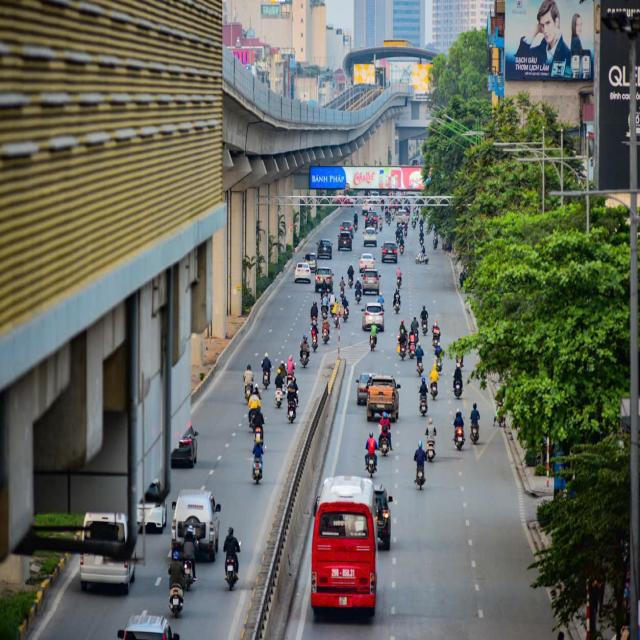Bus: (313, 471, 378, 617)
car: (84, 509, 136, 595), (172, 495, 217, 556), (138, 479, 165, 529), (368, 376, 398, 421), (168, 425, 200, 462), (358, 372, 382, 402), (364, 304, 384, 330), (361, 268, 380, 294), (316, 268, 332, 290), (295, 262, 310, 284), (382, 242, 397, 262), (318, 238, 331, 259), (363, 229, 375, 248), (360, 254, 374, 270), (339, 233, 351, 251), (341, 220, 353, 238), (305, 253, 317, 269)
motobyte: (172, 557, 184, 619), (226, 531, 238, 587), (414, 446, 427, 490), (365, 436, 377, 475), (186, 535, 194, 586), (424, 422, 434, 460), (380, 412, 389, 454), (454, 413, 463, 450), (288, 380, 296, 421), (251, 388, 259, 428), (253, 445, 261, 484), (472, 406, 480, 444), (254, 414, 263, 446), (300, 336, 309, 368), (420, 380, 428, 415), (455, 368, 463, 400), (262, 352, 268, 390), (245, 368, 252, 400), (275, 372, 281, 409), (430, 370, 437, 399), (322, 314, 328, 346), (417, 346, 423, 378), (432, 324, 440, 348), (399, 332, 406, 359), (412, 316, 419, 342), (417, 252, 430, 266), (422, 307, 428, 334), (371, 324, 377, 351), (312, 318, 317, 350), (437, 347, 442, 373), (288, 358, 293, 383), (348, 266, 353, 290), (323, 294, 328, 317), (311, 302, 317, 321), (395, 292, 400, 314), (343, 300, 348, 322), (330, 293, 335, 312), (410, 335, 414, 358), (433, 233, 438, 250), (340, 277, 344, 297), (335, 304, 338, 329), (397, 270, 401, 288), (356, 283, 360, 301), (354, 214, 358, 232), (420, 230, 424, 247), (400, 240, 404, 255), (379, 217, 383, 232), (419, 220, 424, 232), (412, 215, 416, 229), (396, 229, 399, 244), (385, 208, 388, 223), (400, 228, 403, 240), (388, 213, 391, 224), (392, 207, 394, 221), (405, 223, 407, 236), (372, 216, 374, 228)
